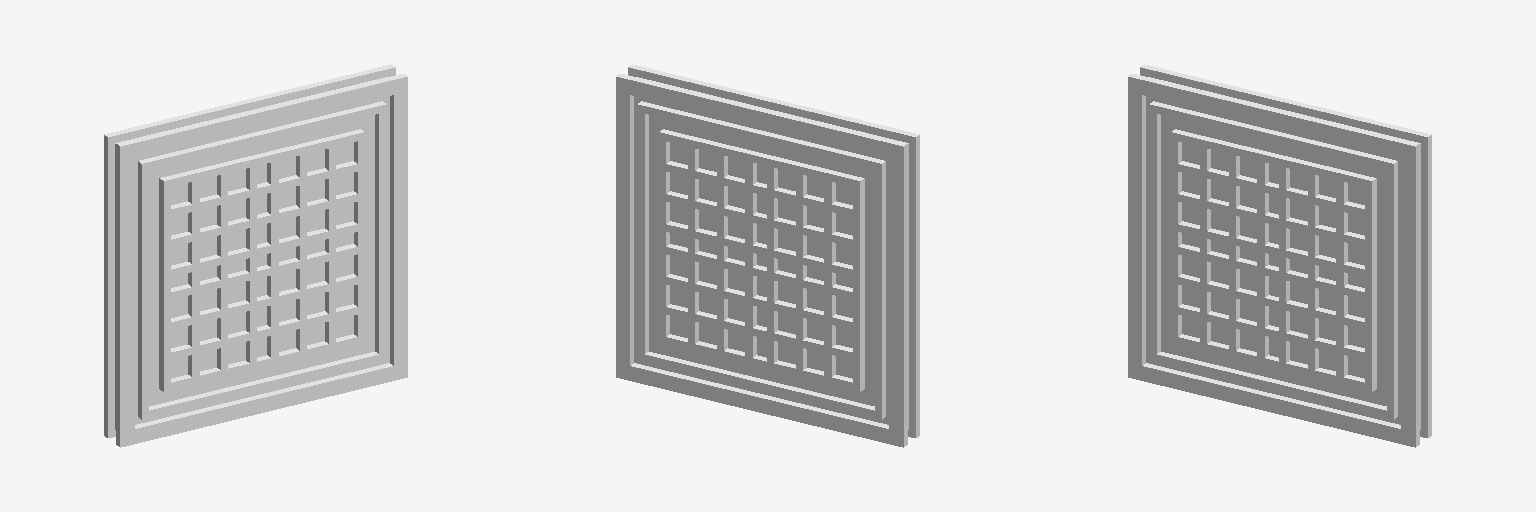
Rendered from closedwall.obj.
The picture shows the model from 3 angles: view 1: azimuth 30°, elevation 25°; view 2: azimuth 150°, elevation 25°; view 3: azimuth 330°, elevation 25°; orthographic projection.
Visible parts, largest first — view 1: object 1; view 2: object 1; view 3: object 1.
Part boxes in pixels (left/top/right/bottom): object 1: left=104, top=64, right=407, bottom=447; object 1: left=616, top=64, right=919, bottom=447; object 1: left=1128, top=64, right=1431, bottom=447.
Size of the model in its own units: 4 by 4 by 0.4.